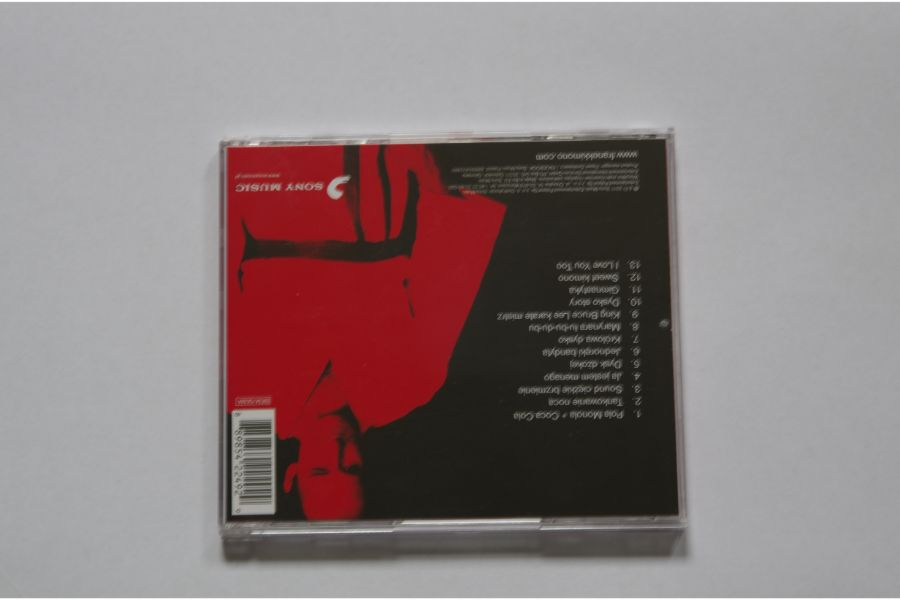album: (214, 125, 696, 537)
